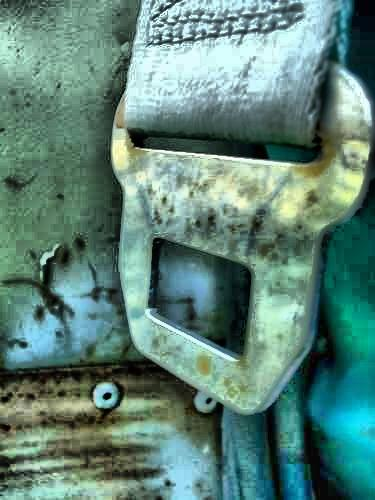seatbelt: (117, 19, 333, 467)
